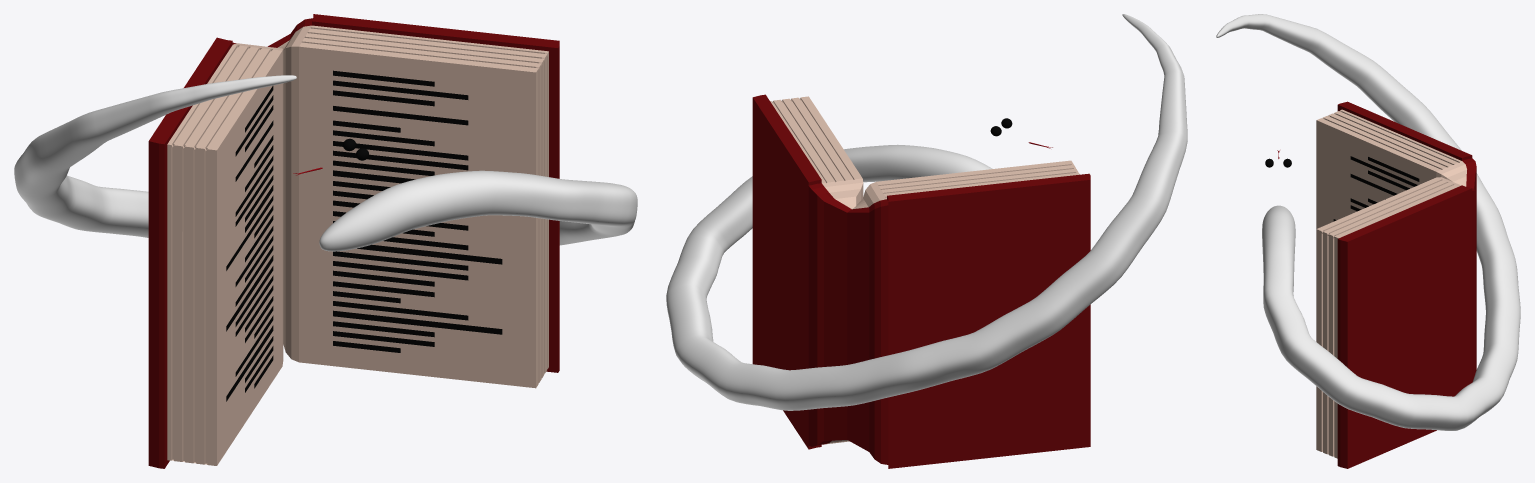
File: SnakeBookfbx.fbx
3 views of the same model, side by side, from view 1: azimuth 30°, elevation 25°; view 2: azimuth 150°, elevation 25°; view 3: azimuth 270°, elevation 25° (orthographic). The views are drawn at different scales.
Parts seen in each view (by area): view 1: Book, Snake.006; view 2: Book, Snake.006; view 3: Book, Snake.006.
Boxes of the visible parts, x1,y1,x2,y2 form: Book: (148, 14, 559, 468); Snake.006: (14, 75, 637, 251); Book: (752, 94, 1090, 468); Snake.006: (666, 14, 1187, 410); Book: (1316, 101, 1476, 468); Snake.006: (1216, 14, 1520, 430).
Bounding box in the file's own units: 1.63 × 1.18 × 1.05.
